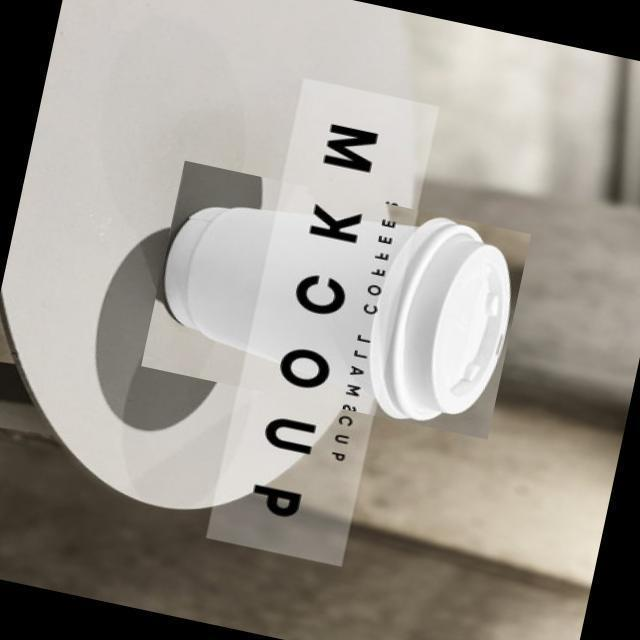Cup: (139, 160, 529, 439)
